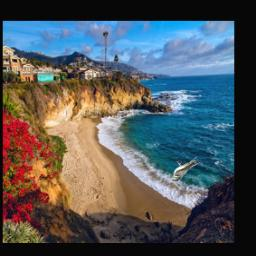Swallow: (171, 157, 202, 181)
